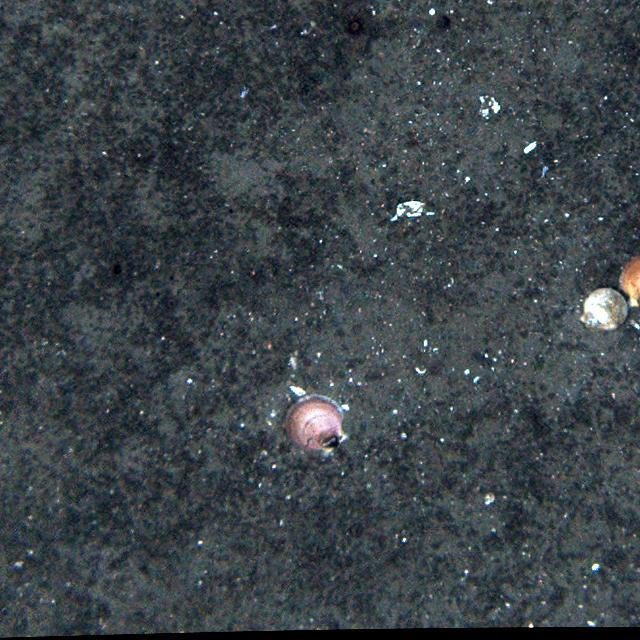scallop: (282, 391, 347, 458)
